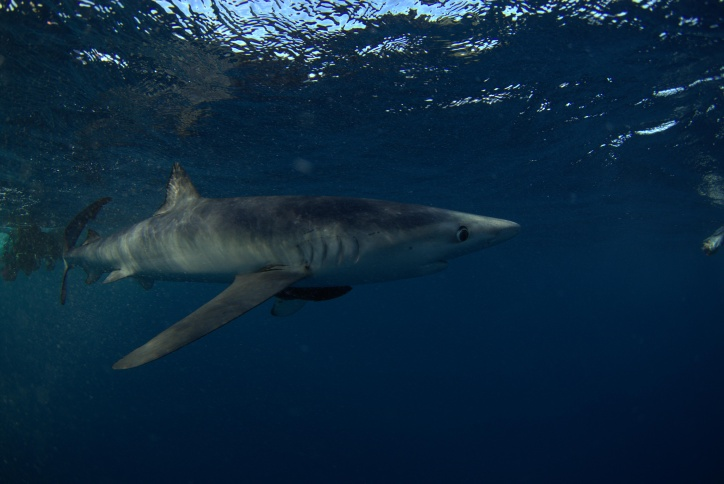Azul: (28, 149, 550, 388)
